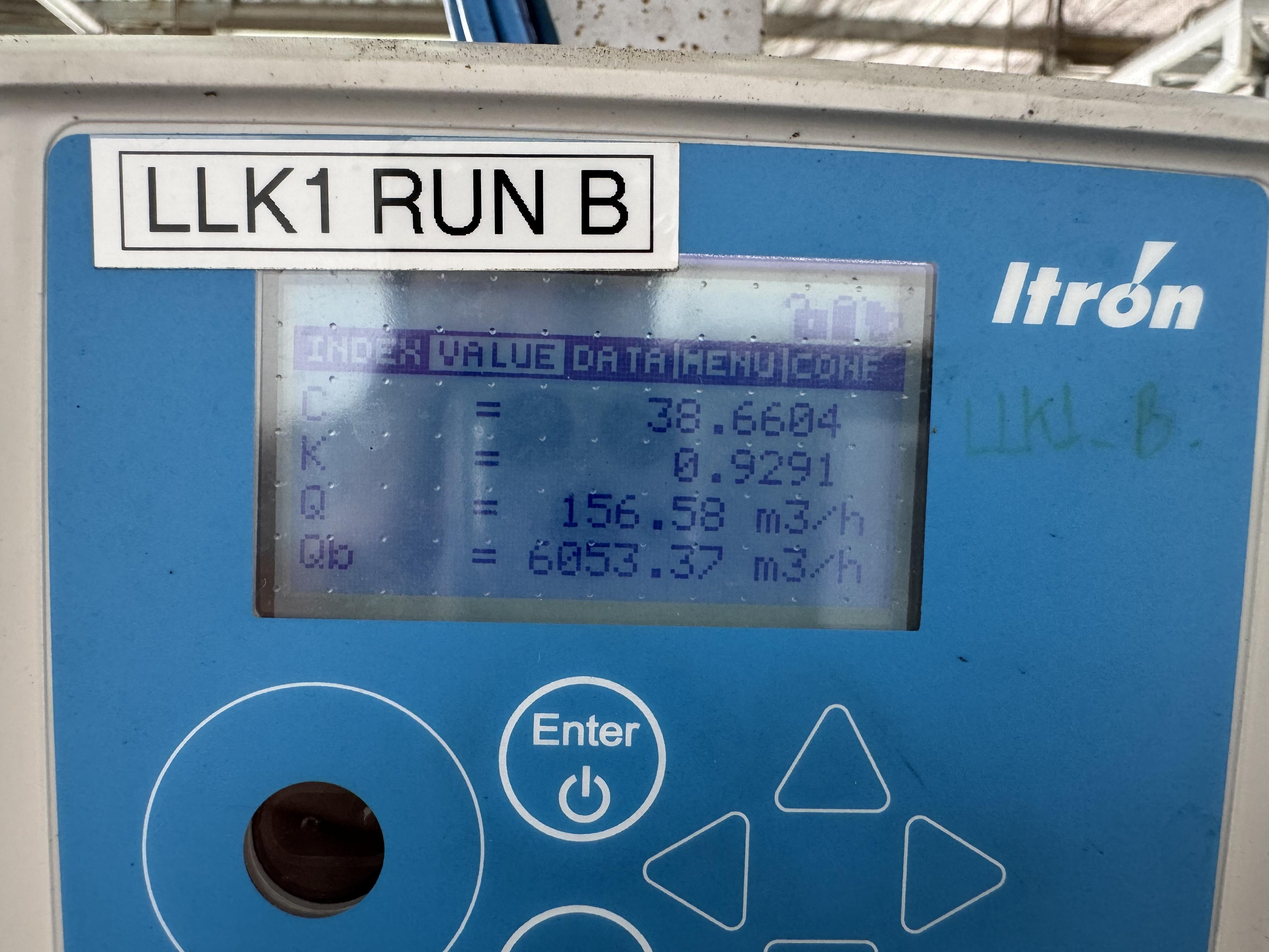digital_screen: (248, 246, 936, 630)
